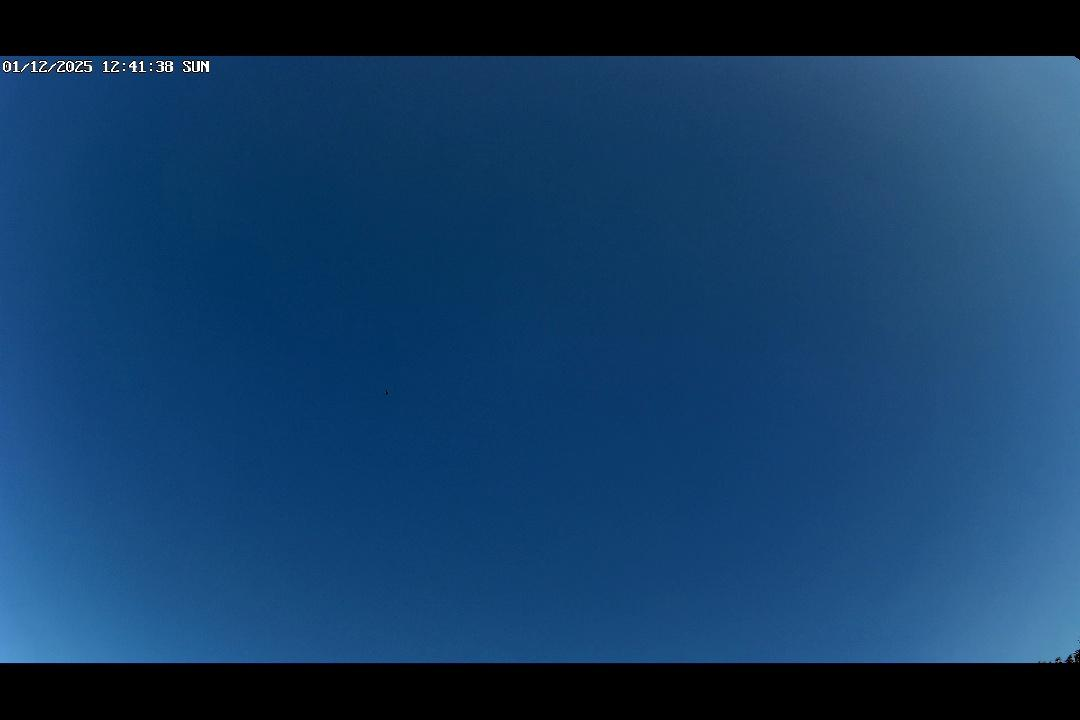WildLife: (381, 387, 395, 400)
